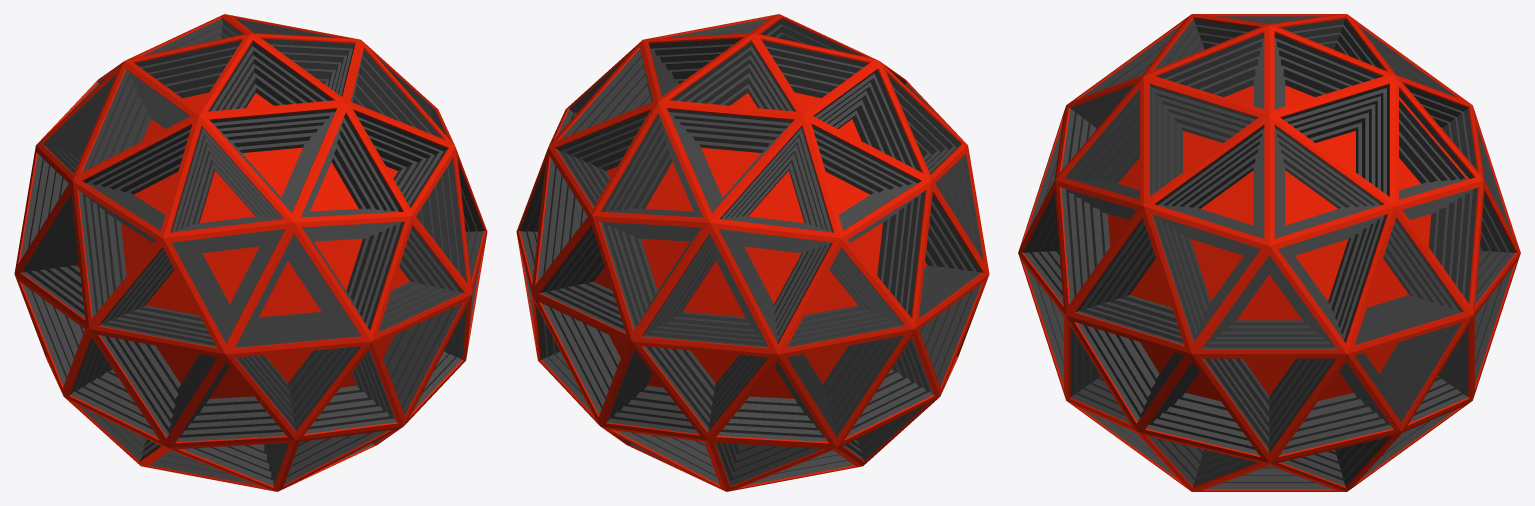
The model's file is Art.fbx.
3 renders of one model, left to right at view 1: azimuth 30°, elevation 25°; view 2: azimuth 150°, elevation 25°; view 3: azimuth 270°, elevation 25°, orthographic. The views are drawn at different scales.
Visible parts, largest first — view 1: Icosphere, Icosphere.002, Icosphere.001; view 2: Icosphere, Icosphere.002, Icosphere.001; view 3: Icosphere, Icosphere.002, Icosphere.001.
Boxes of the visible parts, x1,y1,x2,y2 form: Icosphere: (20, 18, 483, 486); Icosphere.002: (14, 14, 487, 491); Icosphere.001: (76, 92, 409, 398); Icosphere: (520, 18, 983, 486); Icosphere.002: (516, 14, 989, 491); Icosphere.001: (594, 92, 927, 398); Icosphere: (1023, 16, 1515, 488); Icosphere.002: (1018, 14, 1520, 491); Icosphere.001: (1107, 85, 1431, 400).
Bounding box in the file's own units: 192 × 201 × 201.
